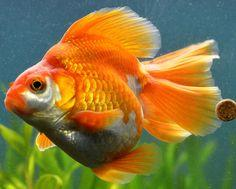goldfish: (4, 21, 221, 173)
